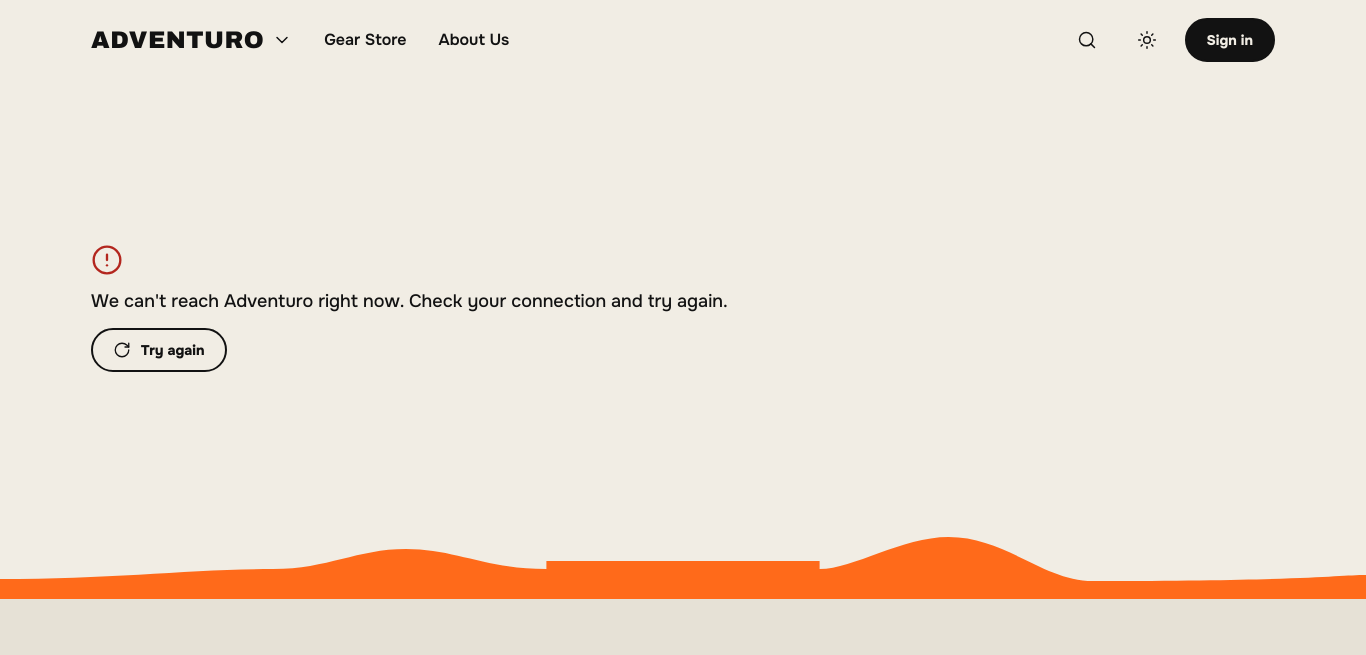
guards › offers a retry instead of a redirect when the session cannot be checked
This screenshot has width=1366, height=655.
Expected: the message shows "We can't reach Adventuro right now. Check your connection and try again.", [91,290,728,312]
Click the button "Try again" at {"x": 159, "y": 350}, box [91,328,226,372]
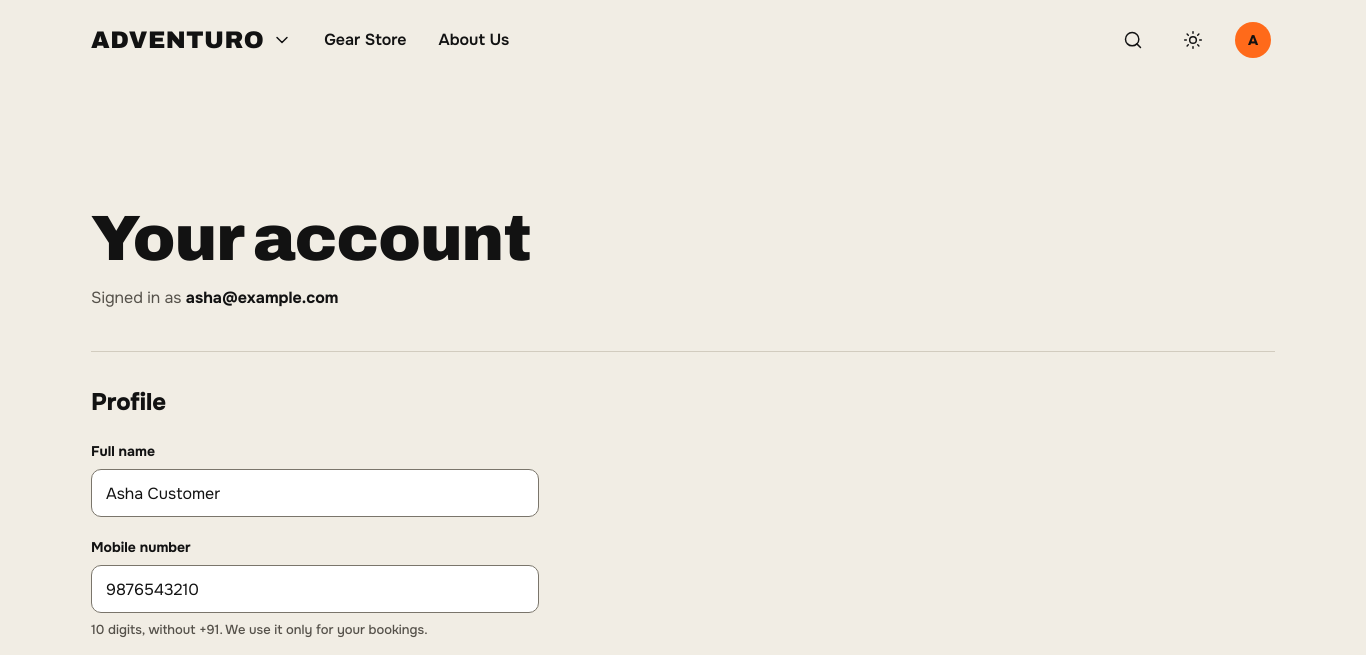
Now the heading "Your account" is shown, box [91,204,531,273]
